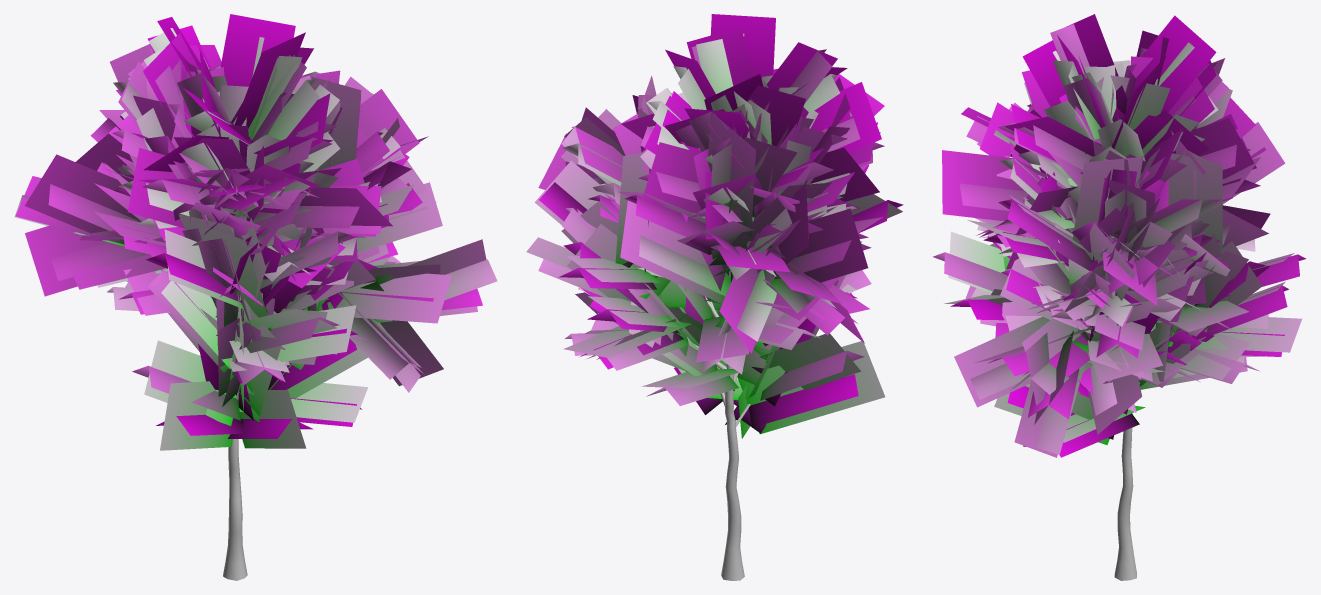
Rendered from rowan_10.fbx.
The picture shows the model from 3 angles, left to right: view 1: azimuth 30°, elevation 25°; view 2: azimuth 150°, elevation 25°; view 3: azimuth 270°, elevation 25°; orthographic projection. The views are drawn at different scales.
Parts seen in each view (by area): view 1: rowan_leaves_10_shadow, rowan_leaves_10_lod0, rowan_tree_10_lod0; view 2: rowan_leaves_10_shadow, rowan_leaves_10_lod0, rowan_tree_10_lod0; view 3: rowan_leaves_10_shadow, rowan_leaves_10_lod0, rowan_tree_10_lod0.
Part boxes in pixels (x1,y1,x2,y2): rowan_leaves_10_shadow: [15, 14, 486, 450]; rowan_leaves_10_lod0: [14, 28, 497, 438]; rowan_tree_10_lod0: [223, 385, 247, 580]; rowan_leaves_10_shadow: [526, 14, 902, 438]; rowan_leaves_10_lod0: [538, 33, 903, 433]; rowan_tree_10_lod0: [687, 271, 750, 580]; rowan_leaves_10_shadow: [942, 14, 1301, 457]; rowan_leaves_10_lod0: [933, 24, 1305, 457]; rowan_tree_10_lod0: [1114, 331, 1172, 580].
Size of what is drawn, in the model's own units: 4.66 by 6.36 by 4.01.
